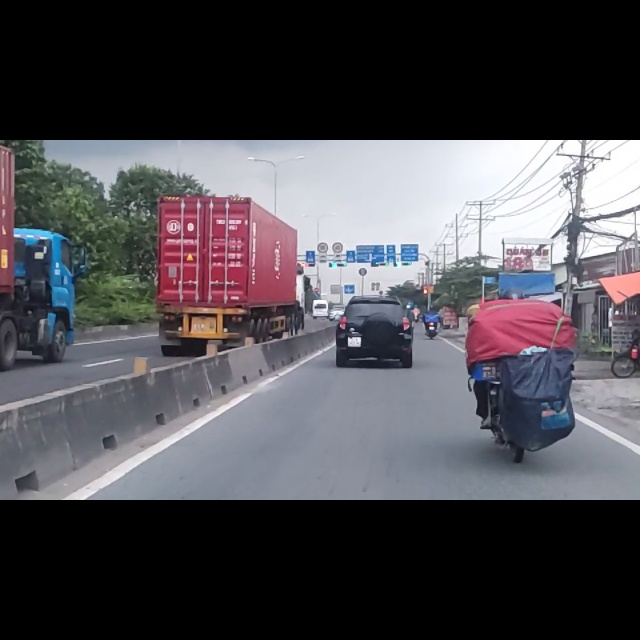bien_nguy_hiem: (332, 181, 343, 201), (317, 183, 328, 200)
